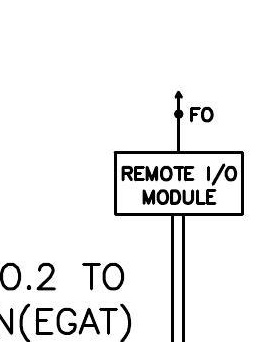remote_io_module: (113, 151, 244, 216)
